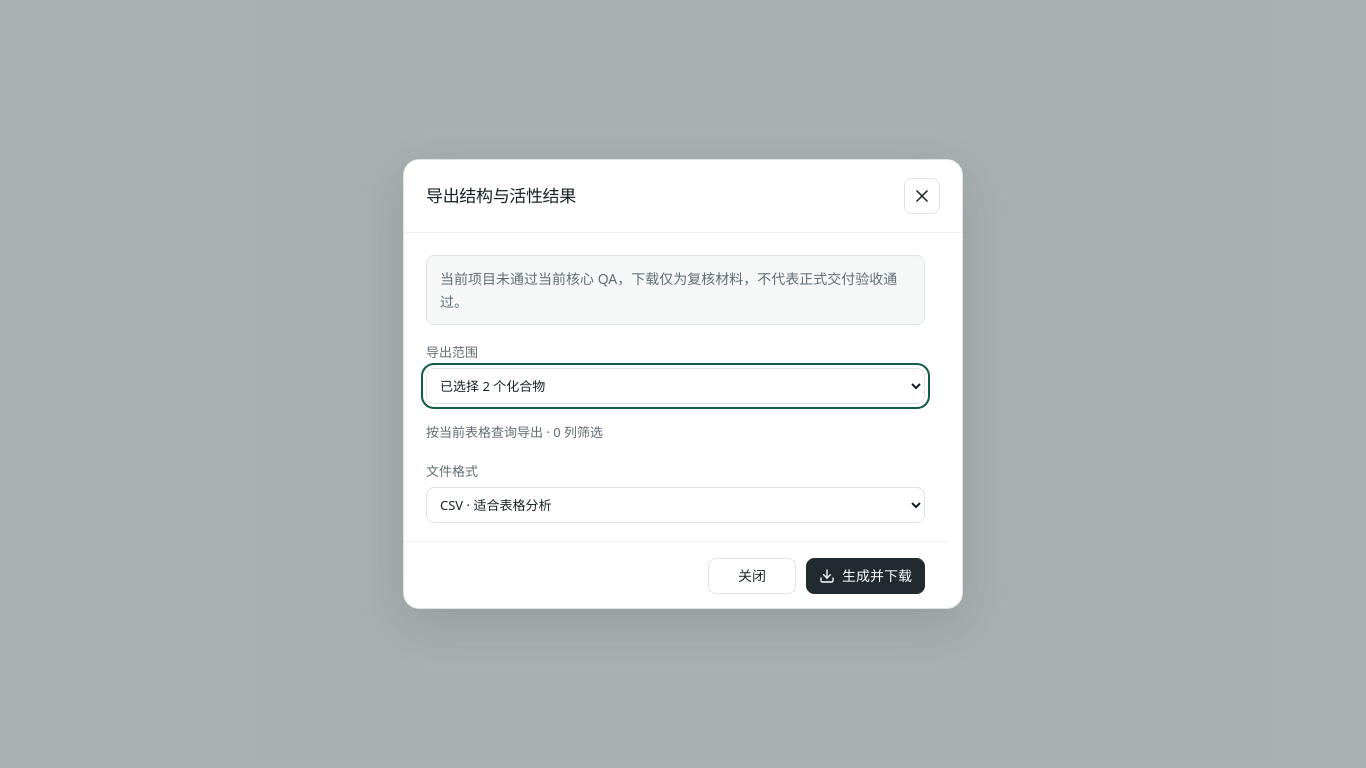
accessible dialogs and explicit mutations › exports selected IDs and labels unaccepted output as review-only
Expected: the text "当前项目未通过当前核心 QA，下载仅为复核材料，不代表正式交付验收通过。" is shown, [426,255,925,325]
Click the button "生成并下载" at [866, 576], box [806,558,925,594]
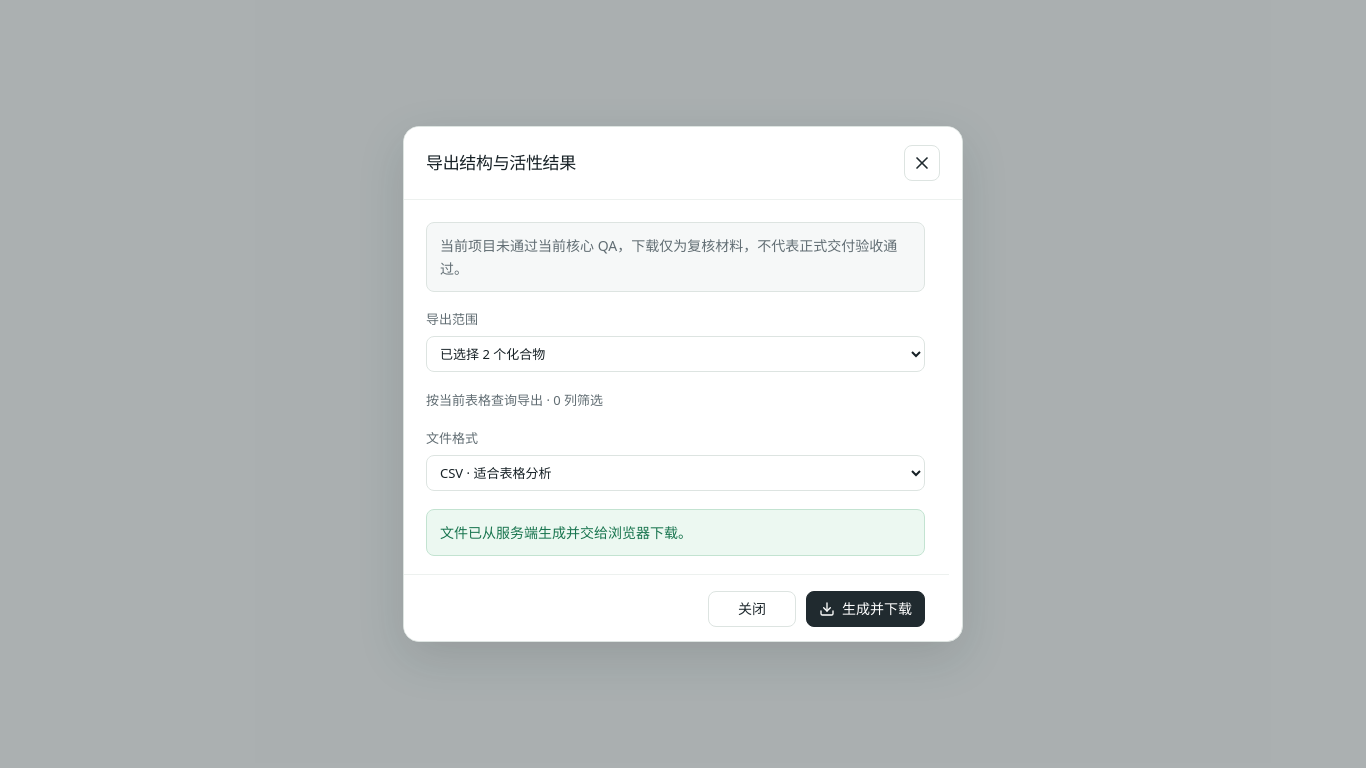
Expected: the text "文件已从服务端生成并交给浏览器下载。" is shown, [426,509,925,556]
